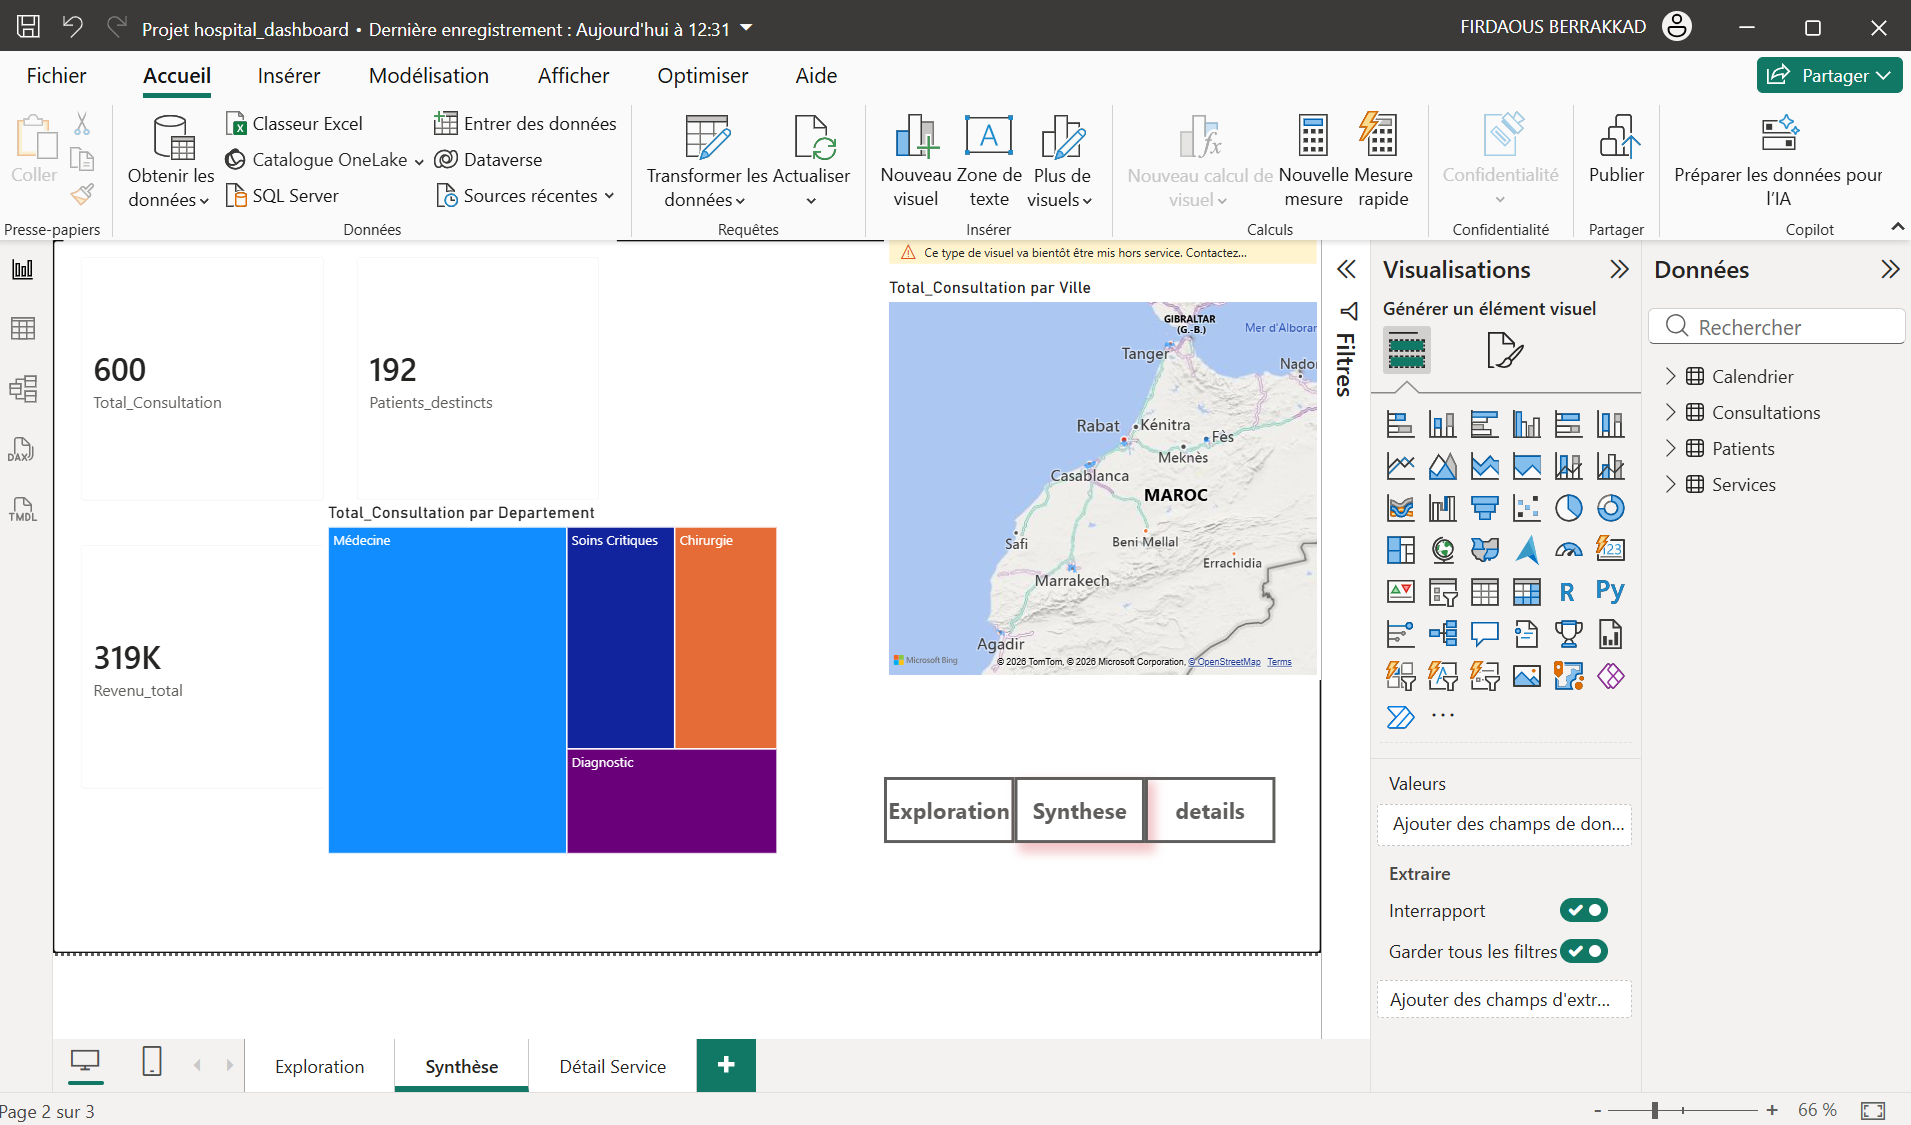

The dashboard page shown, as its layout file describes it:
{"tool":"powerbi","page":{"name":"Synthese","canvas":[1280,720],"ordinal":1},"visuals":[{"type":"cardVisual","fields":{"Data":["Consultations.Total_Consultation"]},"box":[10,0,280,280],"z":0},{"type":"cardVisual","fields":{"Data":["Consultations.Revenu_total"]},"box":[10,290,280,280],"z":1000},{"type":"cardVisual","fields":{"Data":["Consultations.Patients_destincts"]},"box":[289.1,0,279.7,279.7],"z":2000},{"type":"treemap","fields":{"Values":["Consultations.Total_Consultation"],"Group":["Services.Departement"]},"box":[272.1,264.6,463,359.1],"z":3000},{"type":"actionButton","box":[839.4,542.8,131.7,66.7],"z":4000},{"type":"actionButton","box":[971.1,542.8,131.7,66.7],"z":5000},{"type":"actionButton","box":[1102.8,542.8,131.7,66.7],"z":6000},{"type":"filledMap","fields":{"Category":["Patients.Ville"]},"box":[838.3,0,441.7,443.3],"z":7000}]}

Visuals, with their boxes on the page's 1280x720 design canvas (x1, y1, x2, y2). These are canvas units, not pixel positions in the 1911x1125 screenshot, which may show the page scaled, cropped or inside an application window:
cardVisual - Consultations.Total_Consultation: (left=10, top=0, right=290, bottom=280)
cardVisual - Consultations.Revenu_total: (left=10, top=290, right=290, bottom=570)
cardVisual - Consultations.Patients_destincts: (left=289, top=0, right=569, bottom=280)
treemap - Consultations.Total_Consultation x Services.Departement: (left=272, top=265, right=735, bottom=624)
actionButton: (left=839, top=543, right=971, bottom=610)
actionButton: (left=971, top=543, right=1103, bottom=610)
actionButton: (left=1103, top=543, right=1234, bottom=610)
filledMap - Patients.Ville: (left=838, top=0, right=1280, bottom=443)
